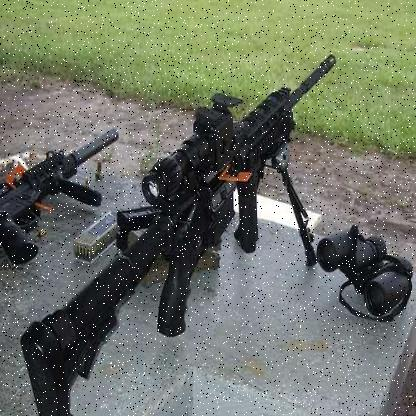rifle: (12, 43, 348, 402)
